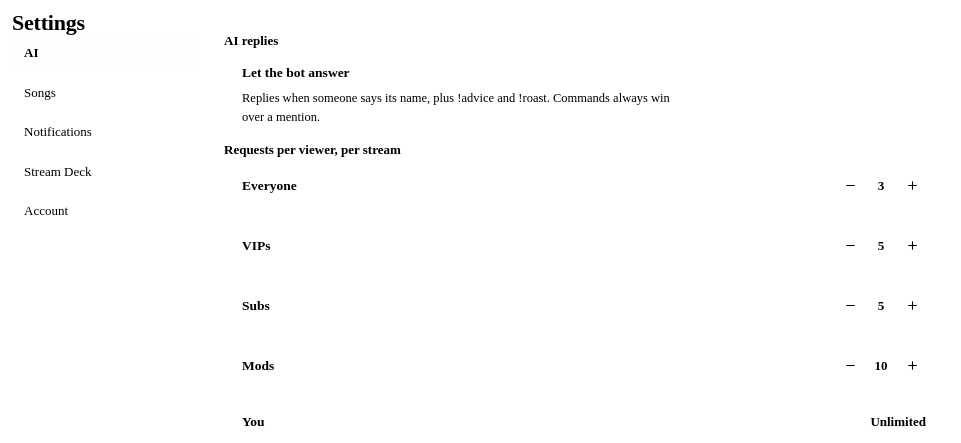
Test: Settings, the Notifications pane › never renders a stored webhook URL, anywhere on the page
Click the button "Notifications": (105, 132) [12,113,198,150]
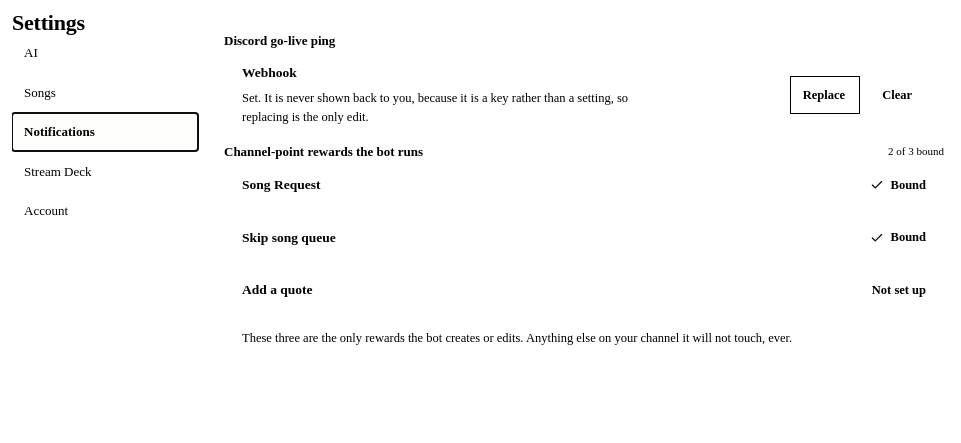
Result: the text "It is never shown back to you" is shown at [242,91,628,124]
